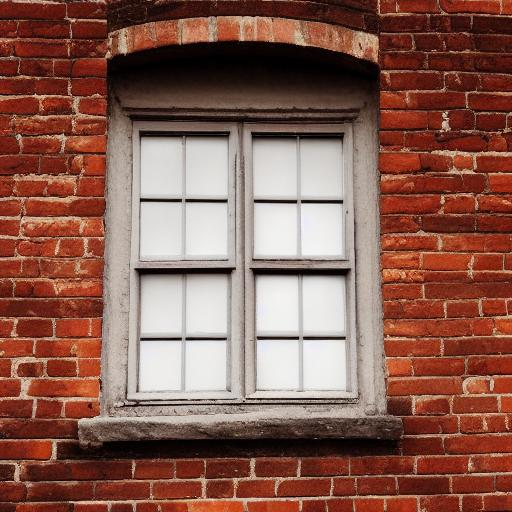Window: (75, 15, 409, 456)
